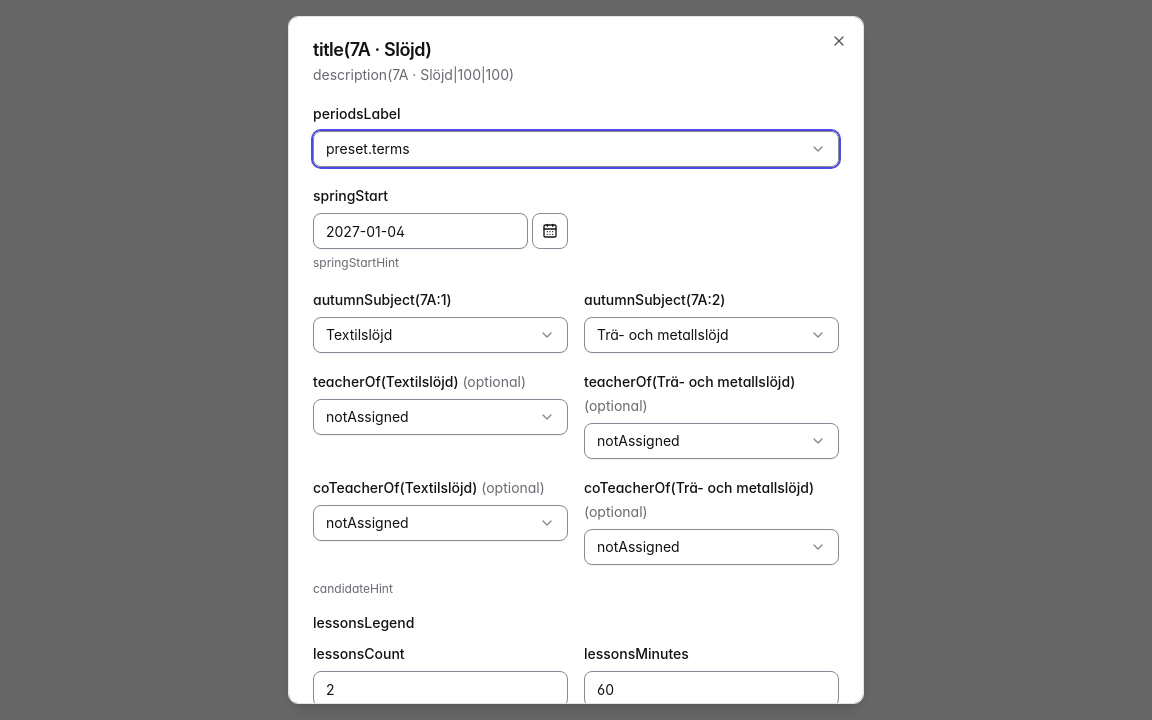
it: TermHalvesDialog › will not send one co-teacher for both subjects, and says why
What coordinates should you click on to do the following:
click the dropdown named "coTeacherOf(Textilslöjd)"
I would click on:
 (440, 523)
Its box is 313,505 -> 568,541.
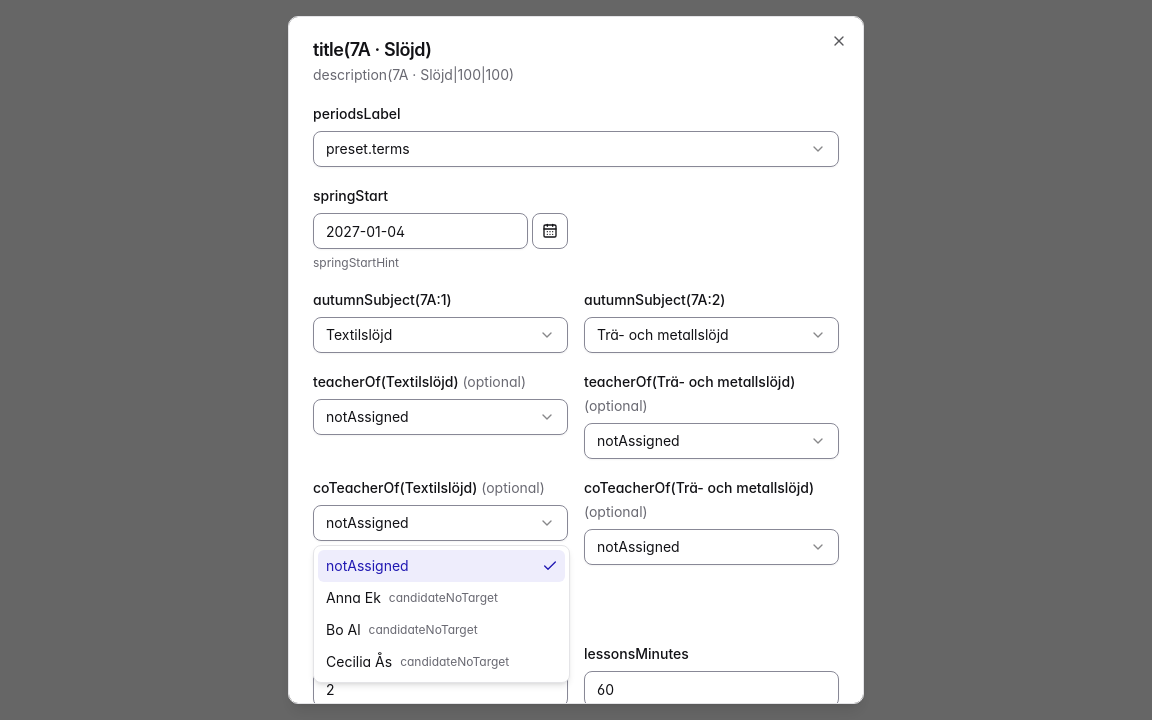
What coordinates should you click on to do the following:
click the option "Cecilia Ås"
I would click on:
 (359, 662)
Its box is 326,653 -> 392,670.
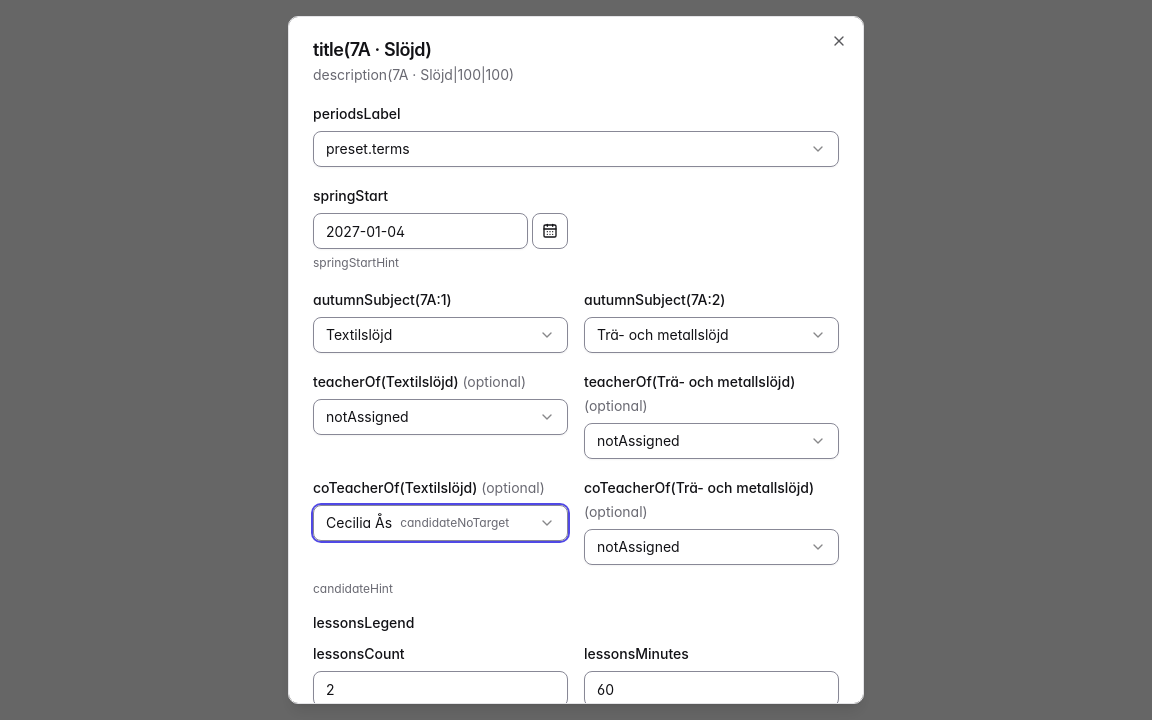
What coordinates should you click on to do the following:
click the dropdown named "coTeacherOf(Trä- och metallslöjd)"
I would click on:
 (712, 547)
Its box is 584,529 -> 839,565.
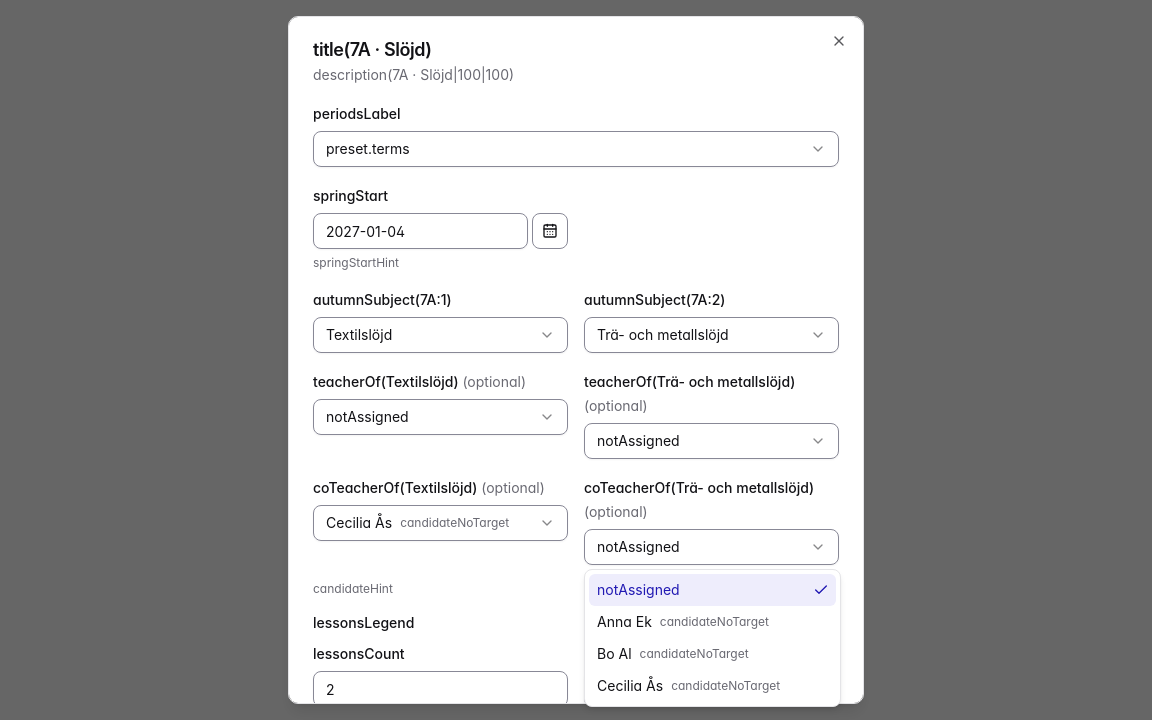
What coordinates should you click on to do the following:
click the option "Cecilia Ås"
I would click on:
 (630, 686)
Its box is 597,677 -> 663,694.
(page scrolled)
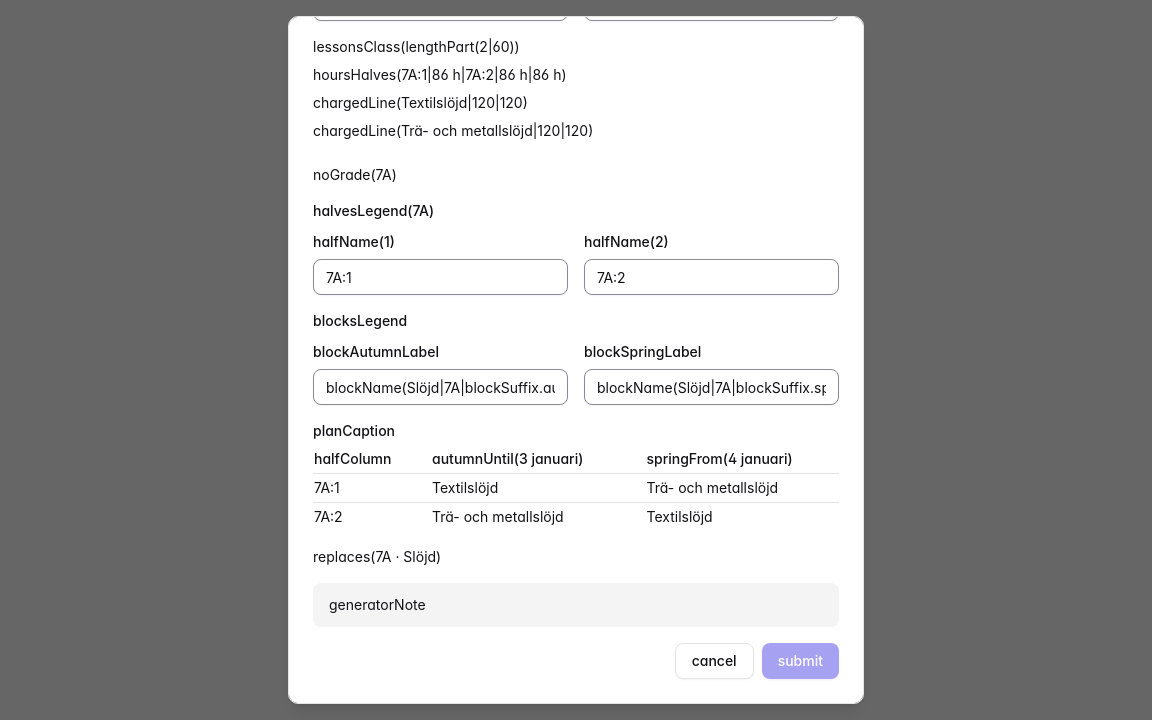
Now the button "submit" is disabled, box 762,643 -> 839,679
